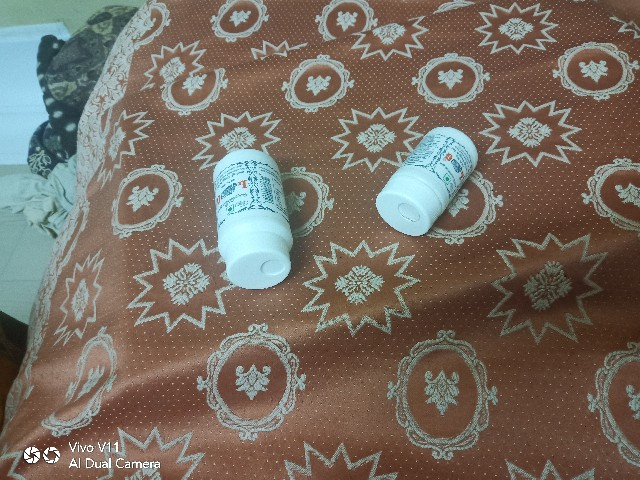lgasafoetidapowder large: (202, 107, 311, 298)
lgasafoetidapowder small: (375, 107, 484, 251)
